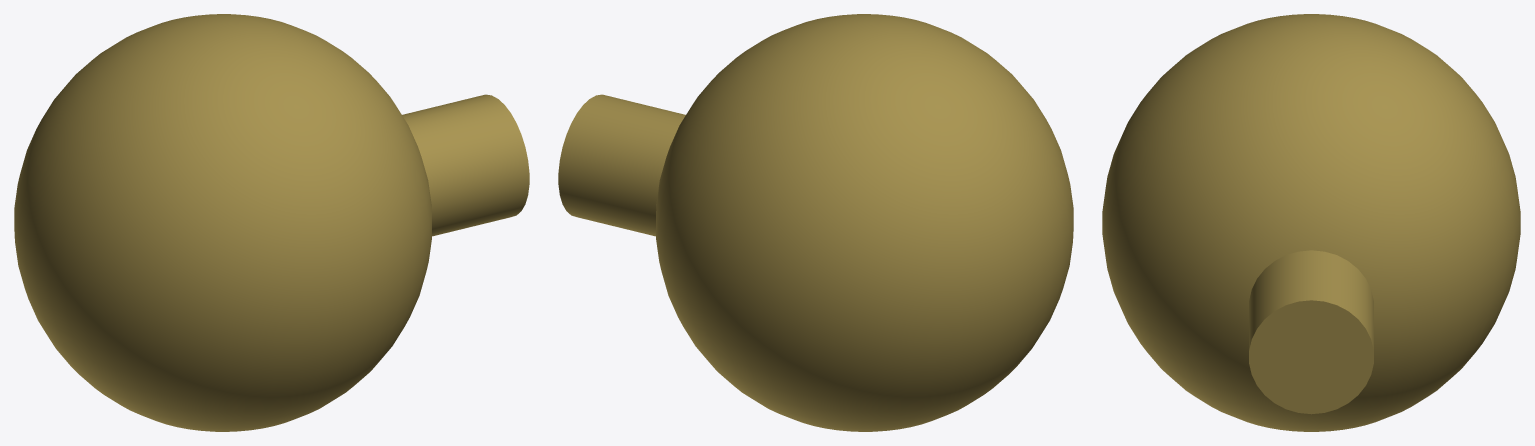
The model's file is DJ1HBr.gltf.
3 views of the same model, side by side, from view 1: azimuth 30°, elevation 25°; view 2: azimuth 150°, elevation 25°; view 3: azimuth 270°, elevation 25° (orthographic).
Parts seen in each view (by area): view 1: Cylinder009; view 2: Cylinder009; view 3: Cylinder009.
Boxes of the visible parts, x1,y1,x2,y2 form: Cylinder009: [14, 14, 529, 431]; Cylinder009: [558, 14, 1073, 431]; Cylinder009: [1102, 14, 1520, 431].
Bounding box in the file's own units: 12.56 × 10 × 9.98.
Materials: 1 (1 with a texture image).
